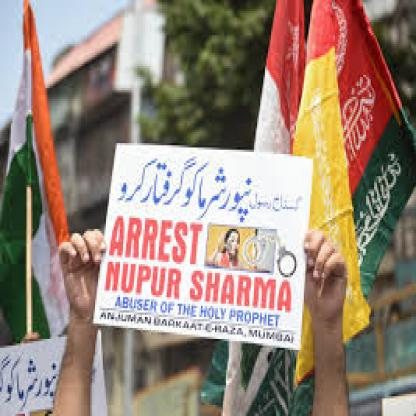BANNER: (93, 145, 312, 350)
